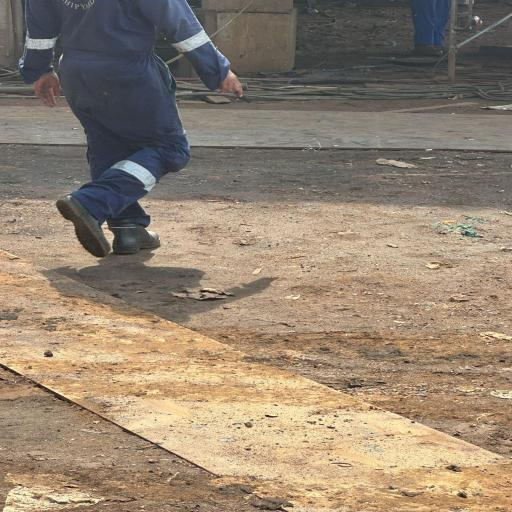safety_shoe: (40, 184, 120, 260), (100, 209, 177, 258)
